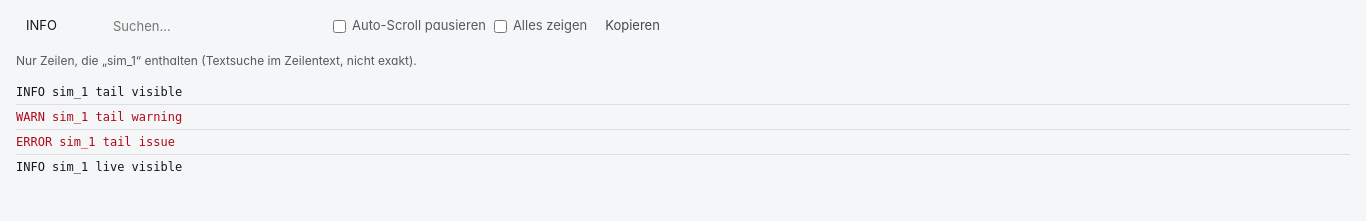
LogStream severity filter › defaults to INFO and filters tail and SSE while retaining scope and search
Expected: the dropdown with class "level-select" shows "INFO", [16,10,95,42]
Expected: the elements with class "log-line" read "INFO sim_1 tail visible", "WARN sim_1 tail warning", "ERROR sim_1 tail issue", "INFO sim_1 live visible", in this order, [16,85,182,99]; [16,104,1350,129]; [16,129,1350,154]; [16,154,1350,179]
Step 1. Type "live visible" into the search field with class "search-input" → [214, 26], box [103,10,325,42]
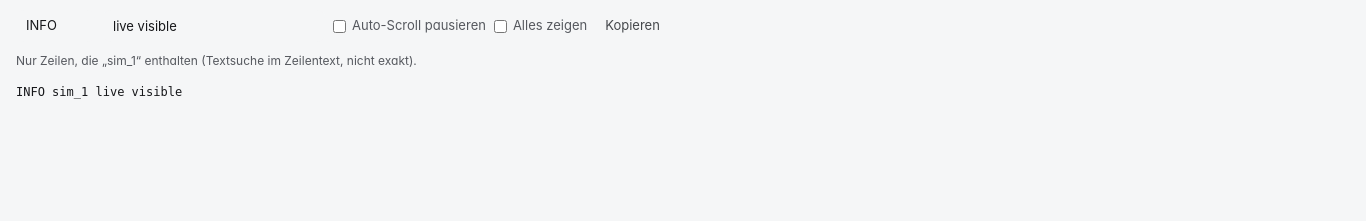
Result: the elements with class "log-line" read "INFO sim_1 live visible", in this order at [16,85,182,99]
Step 2. Clear the search field with class "search-input" → [214, 26], box [103,10,325,42]
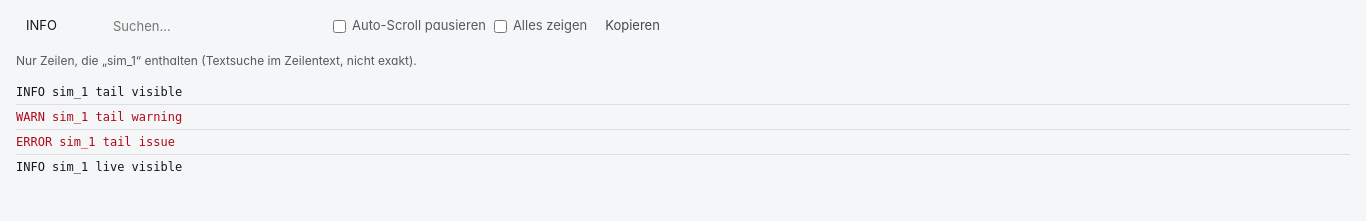
Step 3. Select "DEBUG" in the dropdown with class "level-select" → [56, 26], box [16,10,95,42]
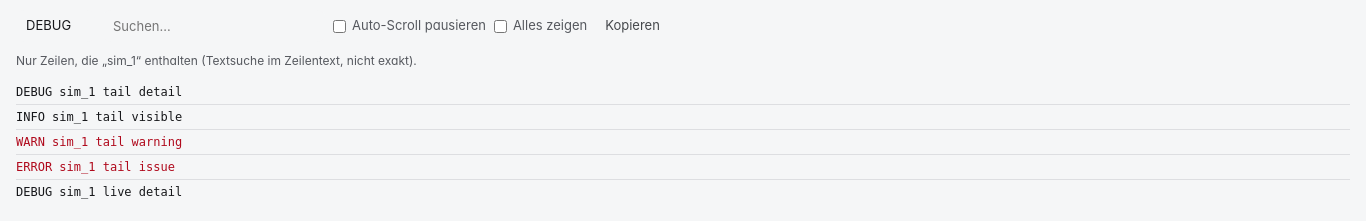
Result: the text with class "log-line" reads "DEBUG sim_1 tail detail" at [16,85,182,99]
Result: the text with class "log-line" reads "DEBUG sim_1 live detail" at [16,185,182,199]
